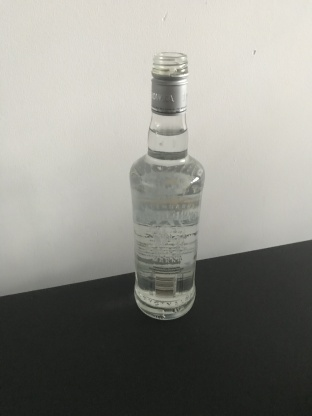nakretka: (149, 50, 190, 116)
